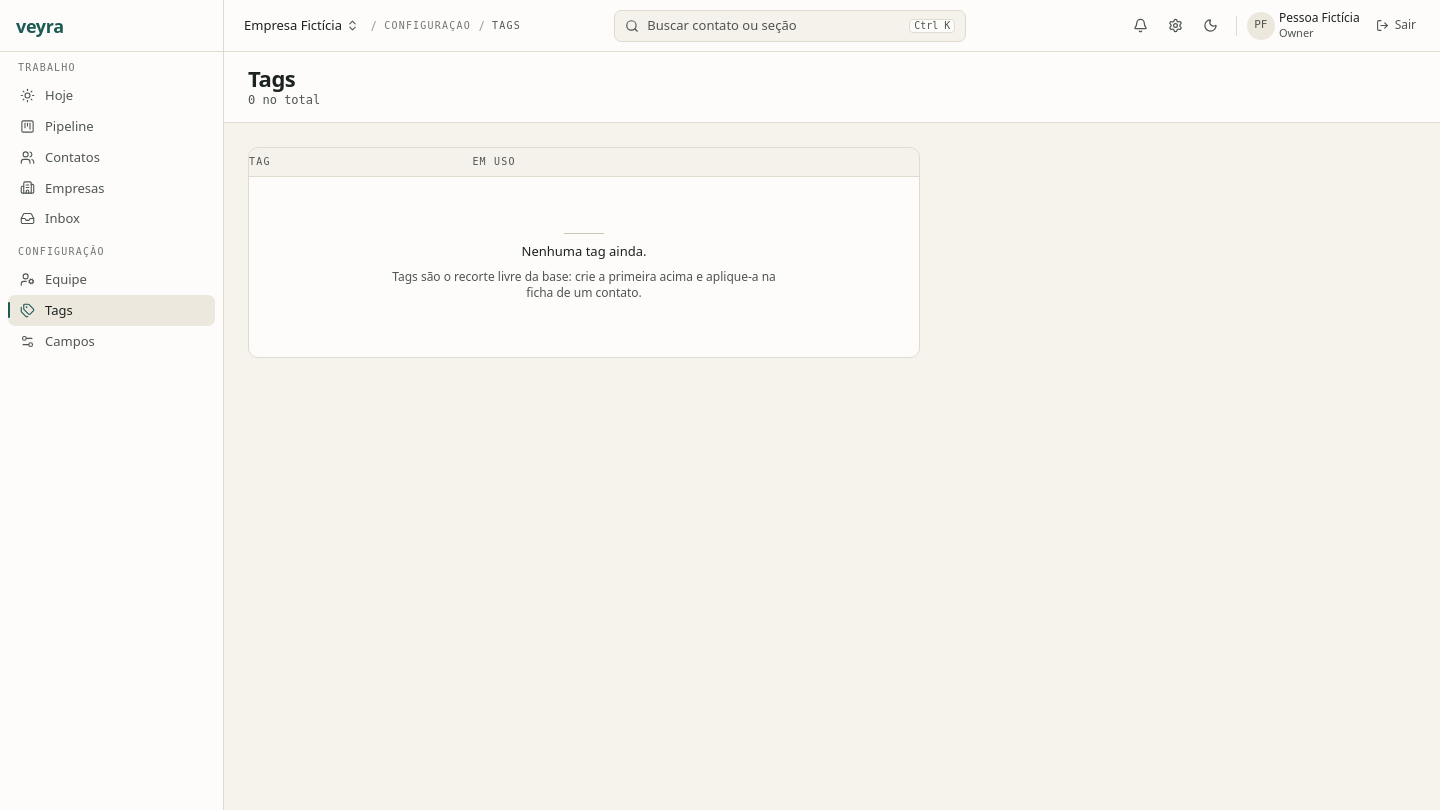
it: troca de workspace e de experiência › pelo seletor: o produto, o menu e os dados passam a ser os do workspace escolhido
Click the button with aria-label "Trocar de workspace" at {"x": 302, "y": 26}, box [240,14,363,37]
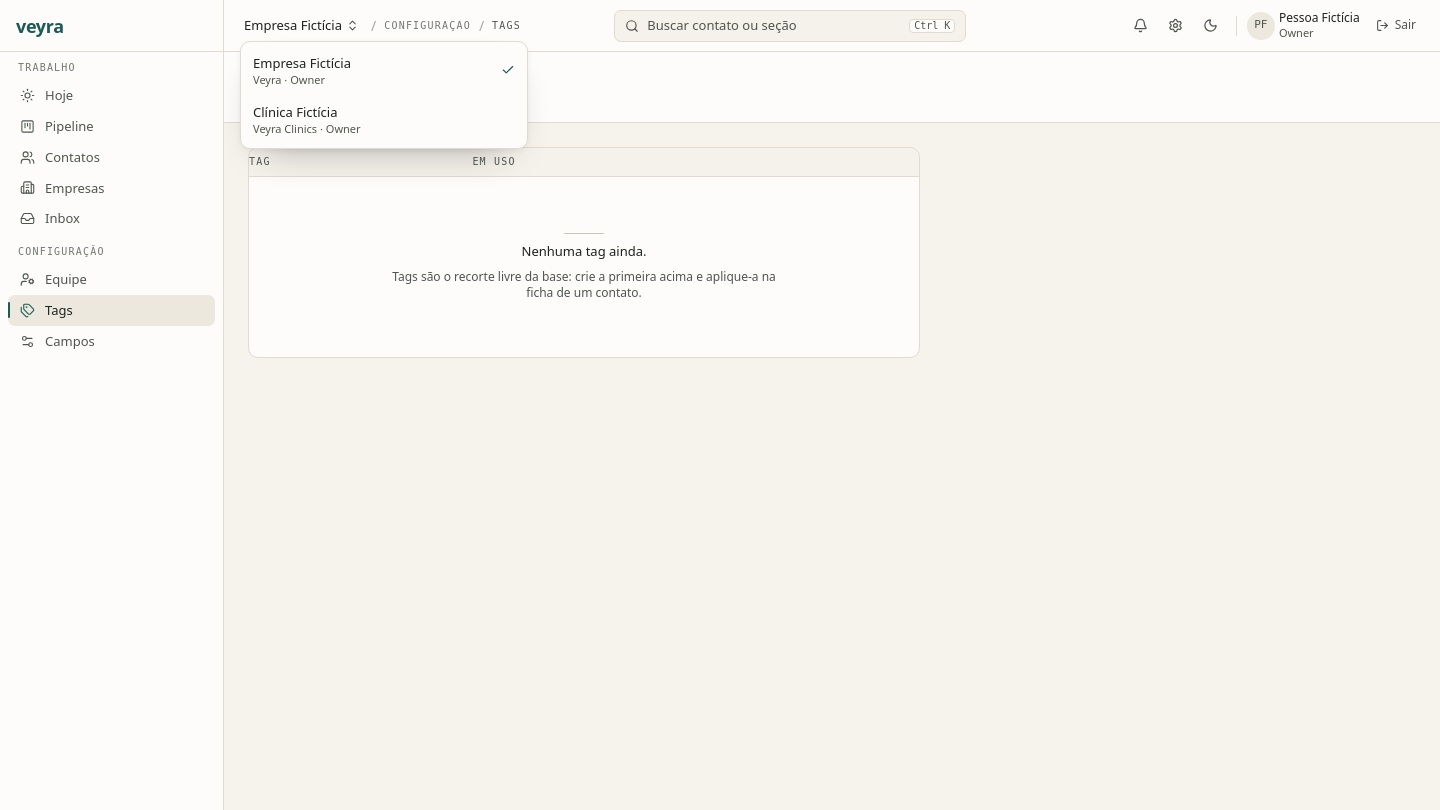
Click the button "Clínica Fictícia Veyra Clinics · Owner" at {"x": 295, "y": 112}, box [241,95,527,144]
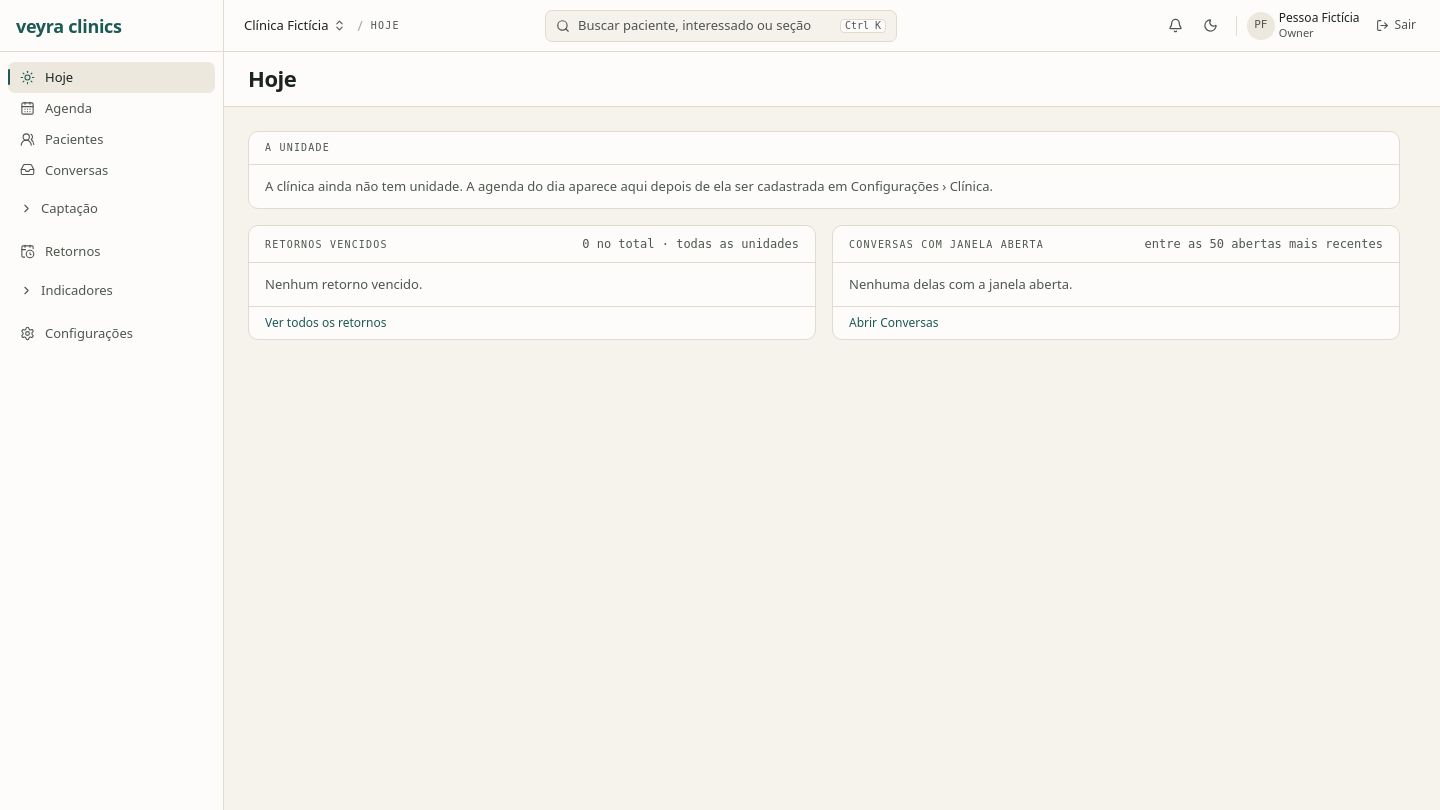
Now the heading "Hoje" is shown, box [248,66,296,92]
Now the link "Empresas" is gone
